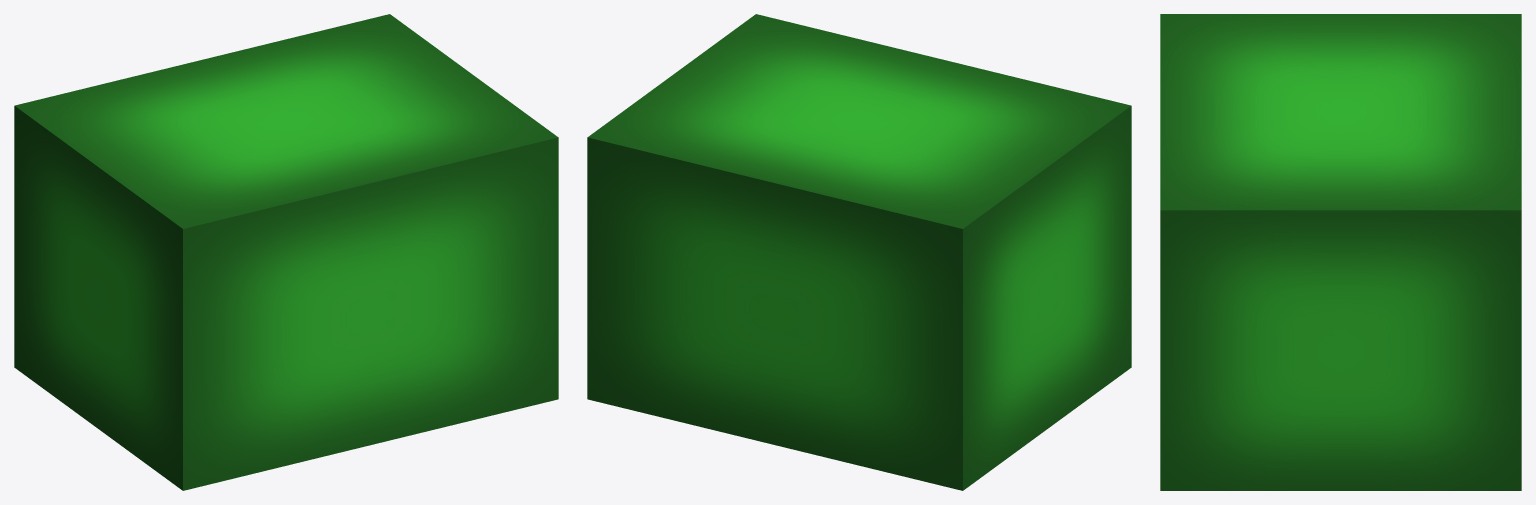
The model's file is block5.glb.
The picture shows the model from 3 angles, left to right: view 1: azimuth 30°, elevation 25°; view 2: azimuth 150°, elevation 25°; view 3: azimuth 270°, elevation 25°; orthographic projection. The views are drawn at different scales.
Parts seen in each view (by area): view 1: Object_19, Object_14, Object_16; view 2: Object_17, Object_14, Object_16; view 3: Object_18, Object_14.
Boxes of the visible parts, left/top/right/bottom form: Object_19: left=183, top=137, right=558, bottom=490; Object_14: left=15, top=14, right=558, bottom=228; Object_16: left=14, top=106, right=182, bottom=490; Object_17: left=587, top=137, right=962, bottom=490; Object_14: left=587, top=14, right=1130, bottom=228; Object_16: left=963, top=106, right=1131, bottom=490; Object_18: left=1160, top=210, right=1521, bottom=490; Object_14: left=1160, top=14, right=1521, bottom=210.
Bounding box in the file's own units: 0.6858 × 0.4572 × 0.5334.
Materials: 1 (1 with a texture image).
